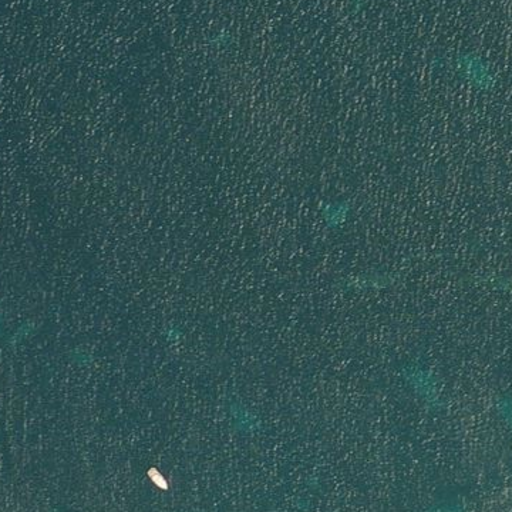ship: (145, 466, 170, 494)
